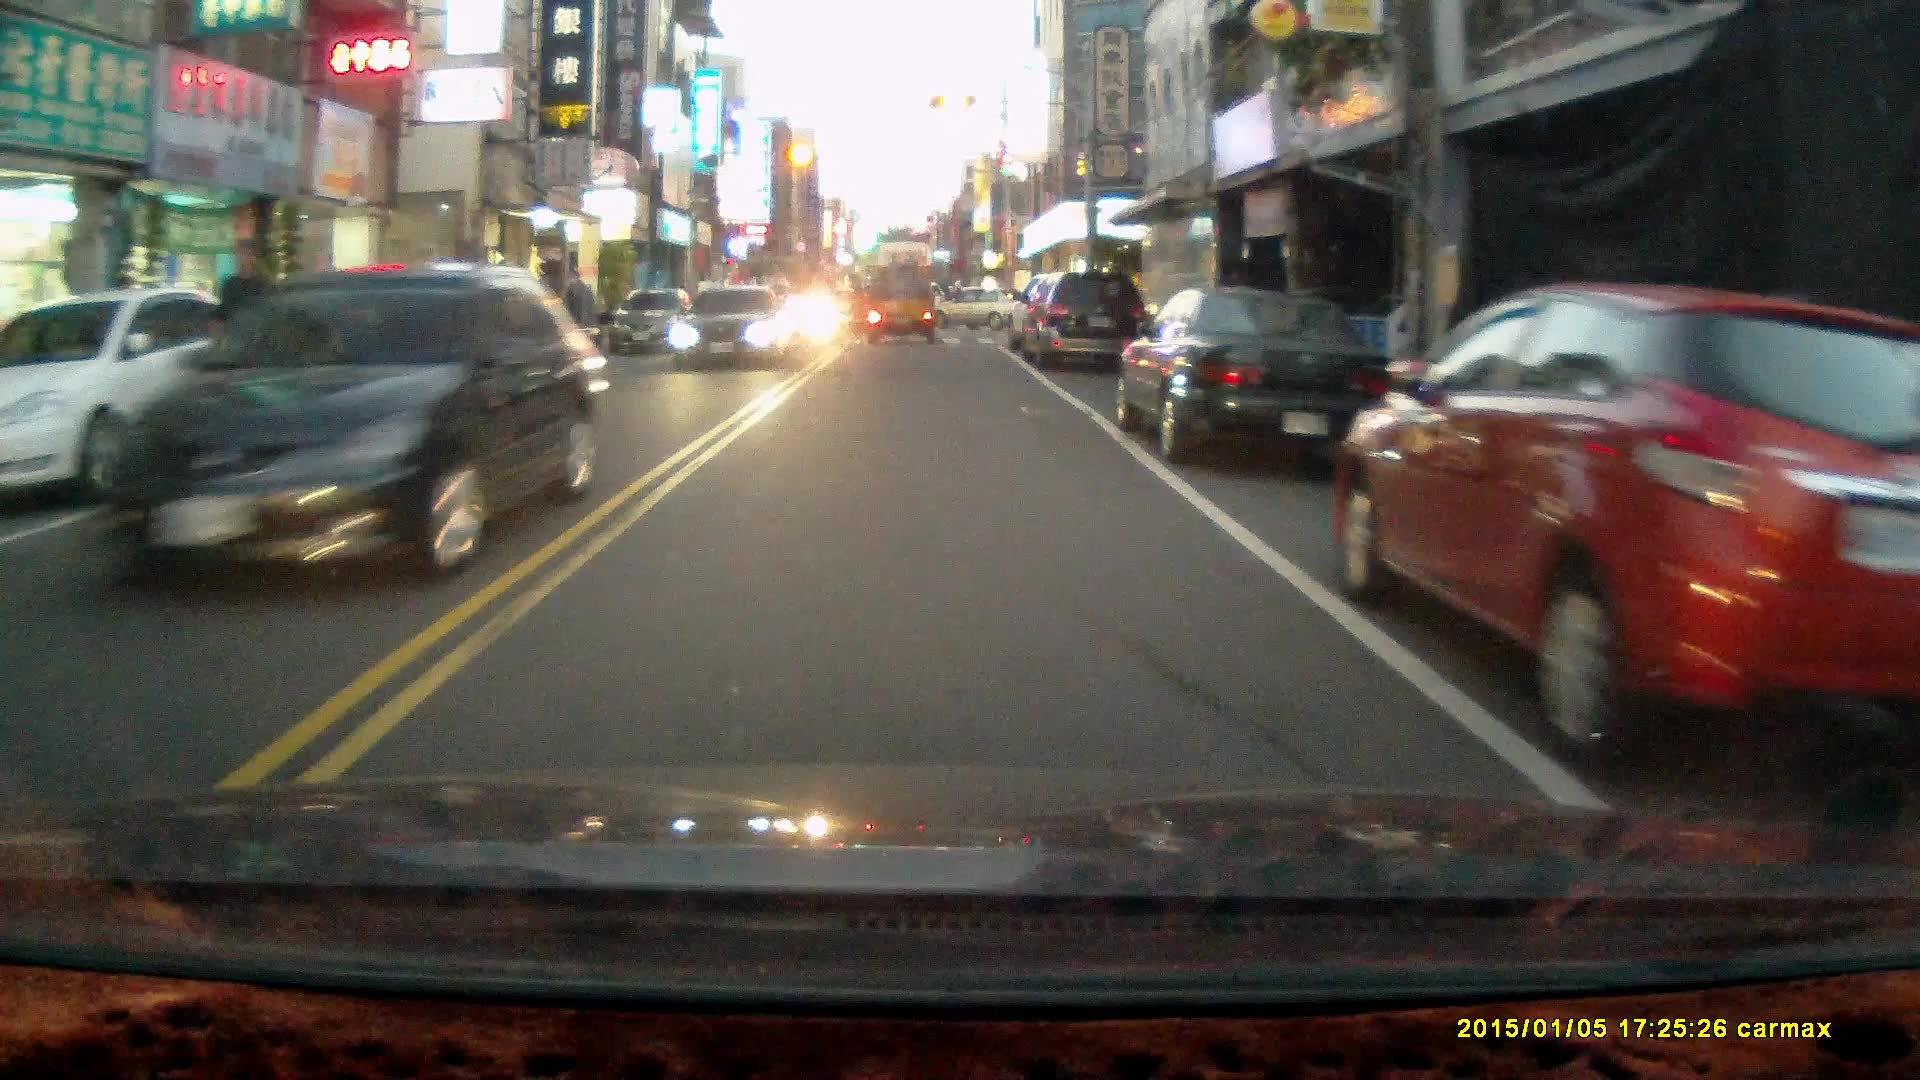pedestrian: (212, 238, 280, 414), (559, 266, 601, 386)
vehicle: (1340, 282, 1920, 781), (80, 264, 611, 594), (1114, 283, 1402, 468), (1016, 269, 1154, 372), (675, 285, 792, 375), (606, 288, 701, 353), (868, 264, 939, 346)
